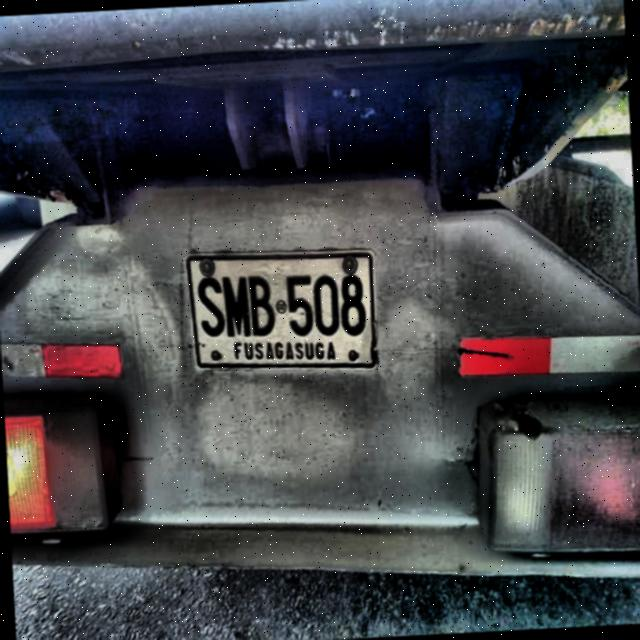plate: (189, 255, 374, 367)
